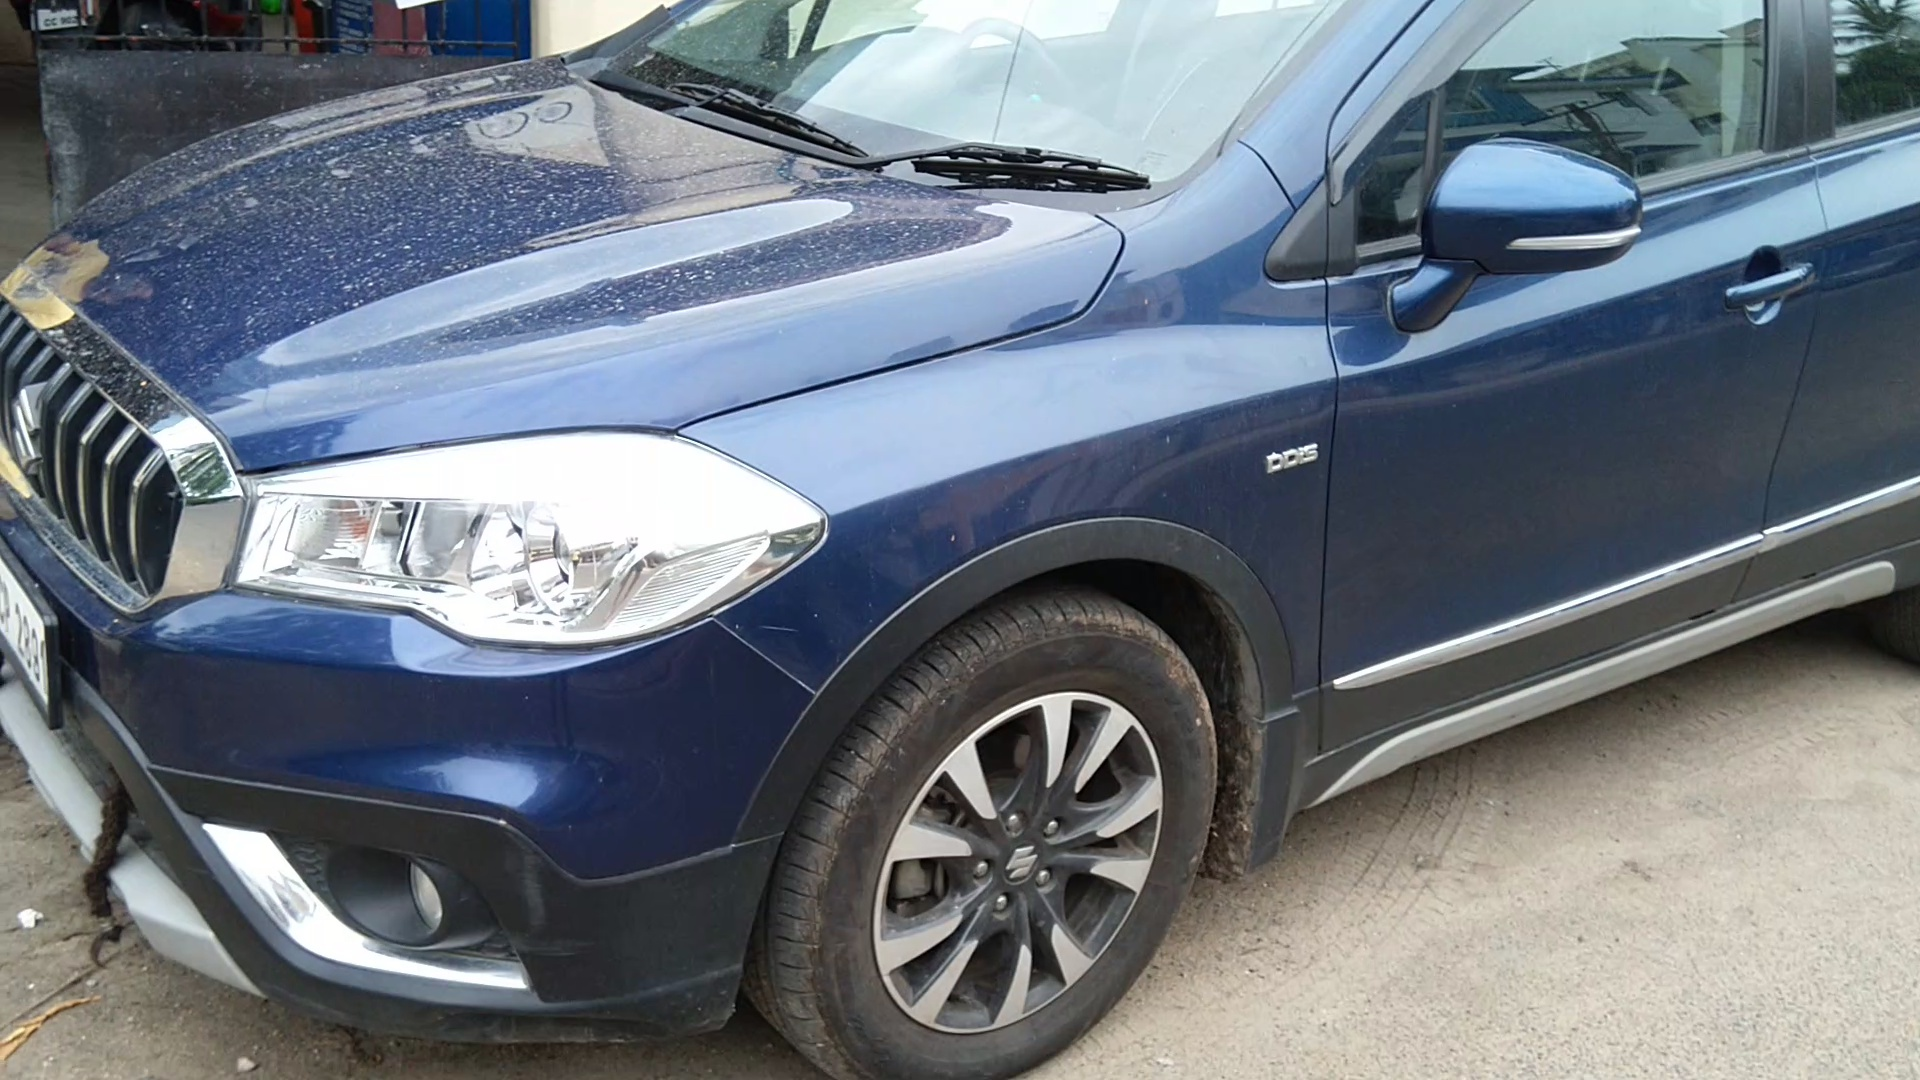alloy_wheel: (756, 593, 1220, 1080)
headlamp: (229, 396, 847, 678)
ovr_mirror: (1408, 125, 1650, 290)
